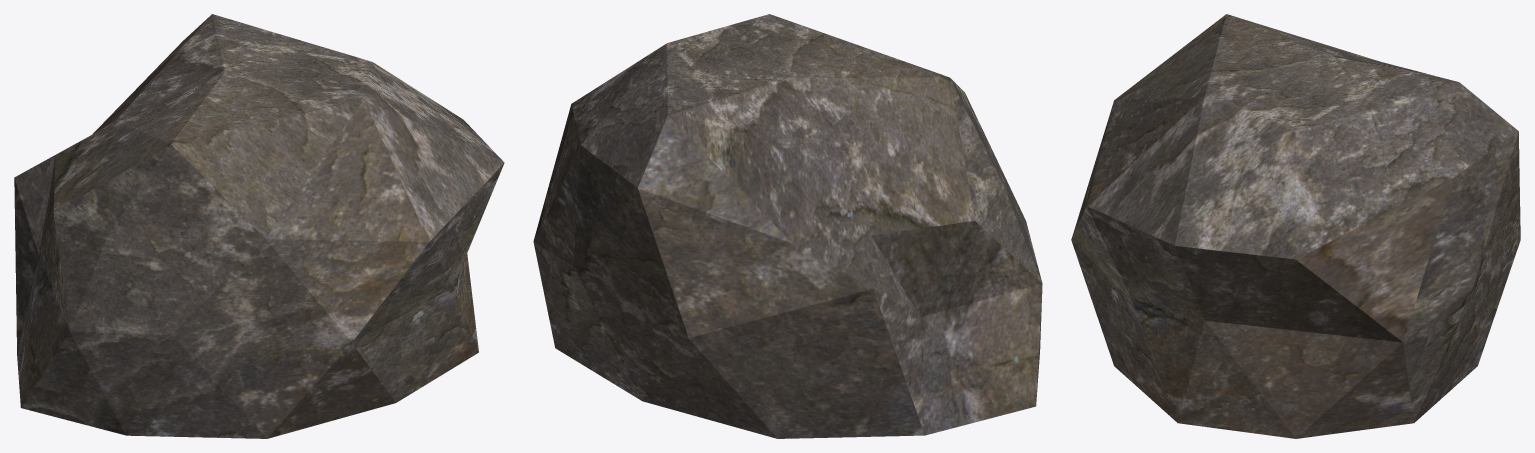
The model's file is steen_1.fbx.
3 views of the same model, side by side, from view 1: azimuth 30°, elevation 25°; view 2: azimuth 150°, elevation 25°; view 3: azimuth 270°, elevation 25° (orthographic). The views are drawn at different scales.
Visible parts, largest first — view 1: Icosphere; view 2: Icosphere; view 3: Icosphere.
Part boxes in pixels (x1,y1,x2,y2): Icosphere: (14, 14, 504, 438); Icosphere: (533, 14, 1042, 438); Icosphere: (1071, 14, 1520, 438).
Bounding box in the file's own units: 233 × 136 × 200.
